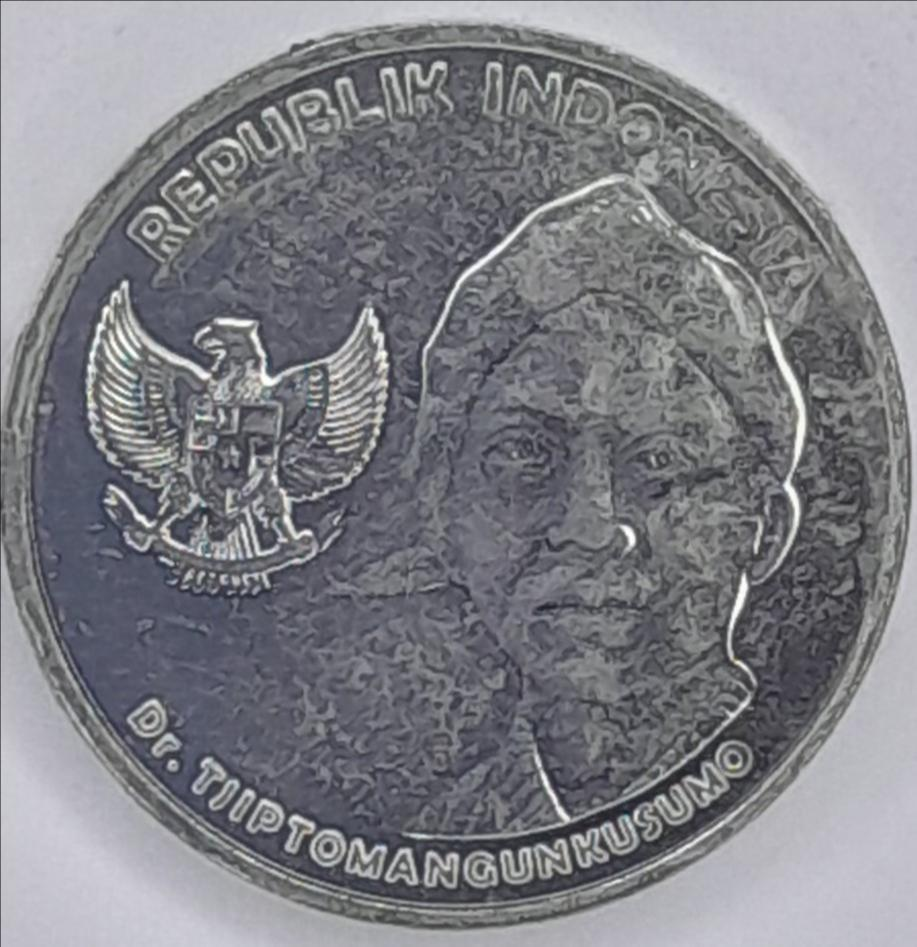coin_200_e2016: (0, 16, 917, 947)
